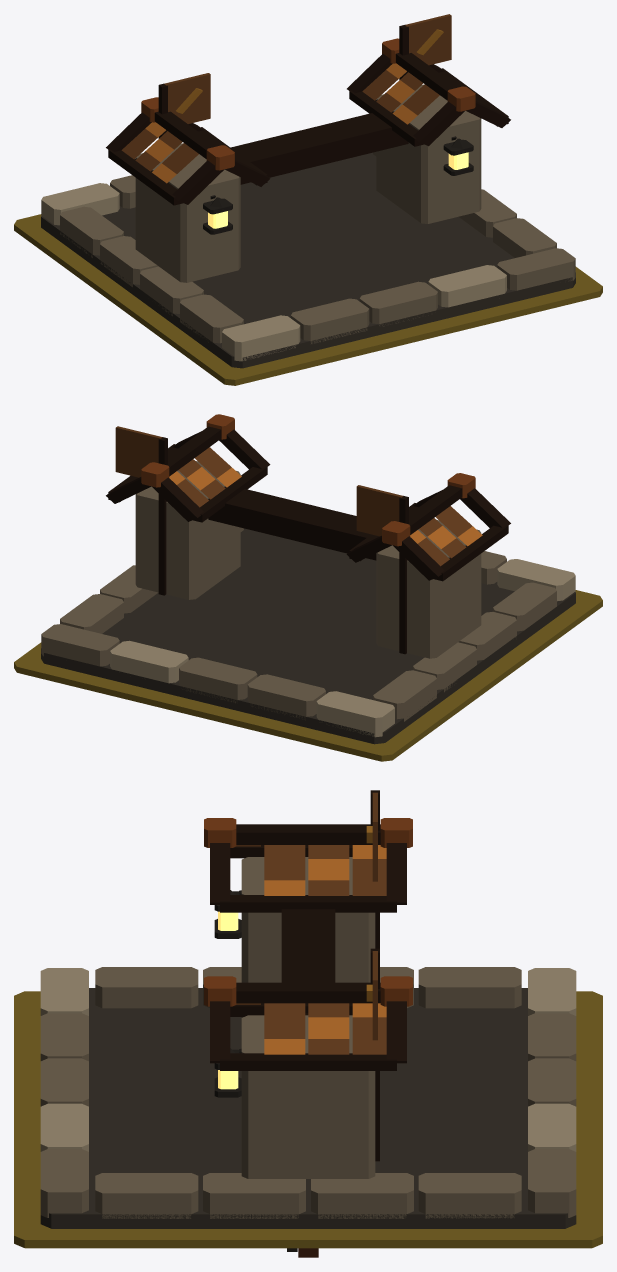
Rendered from dawn-gate_t1.glb.
The picture shows the model from 3 angles, top to bottom: view 1: azimuth 30°, elevation 25°; view 2: azimuth 150°, elevation 25°; view 3: azimuth 270°, elevation 25°; orthographic projection. The views are drawn at different scales.
Parts seen in each view (by area): view 1: MMR | dawn-gate | T01 Architecture.001, MMR | dawn-gate | Tier 01 Ground.001, MMR | dawn-gate | T01 Banner Flag 2.001, MMR | dawn-gate | T01 Banner Flag 1.001; view 2: MMR | dawn-gate | T01 Architecture.001, MMR | dawn-gate | Tier 01 Ground.001, MMR | dawn-gate | T01 Banner Flag 2.001, MMR | dawn-gate | T01 Banner Flag 1.001; view 3: MMR | dawn-gate | T01 Architecture.001, MMR | dawn-gate | Tier 01 Ground.001.
Part boxes in pixels (bbox=[...]): MMR | dawn-gate | T01 Architecture.001: bbox=[41, 25, 575, 368]; MMR | dawn-gate | Tier 01 Ground.001: bbox=[14, 214, 602, 385]; MMR | dawn-gate | T01 Banner Flag 2.001: bbox=[404, 14, 451, 65]; MMR | dawn-gate | T01 Banner Flag 1.001: bbox=[164, 73, 210, 123]; MMR | dawn-gate | T01 Architecture.001: bbox=[41, 414, 575, 744]; MMR | dawn-gate | Tier 01 Ground.001: bbox=[14, 590, 602, 761]; MMR | dawn-gate | T01 Banner Flag 2.001: bbox=[115, 426, 162, 477]; MMR | dawn-gate | T01 Banner Flag 1.001: bbox=[356, 485, 403, 536]; MMR | dawn-gate | T01 Architecture.001: bbox=[40, 790, 576, 1228]; MMR | dawn-gate | Tier 01 Ground.001: bbox=[14, 991, 602, 1248].
Bounding box in the file's own units: 3.3 × 1.99 × 3.3.
2 materials, 1 textured.
